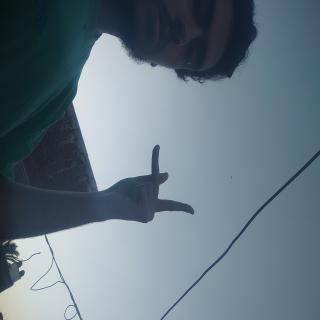DHAA: (104, 164, 173, 287)
